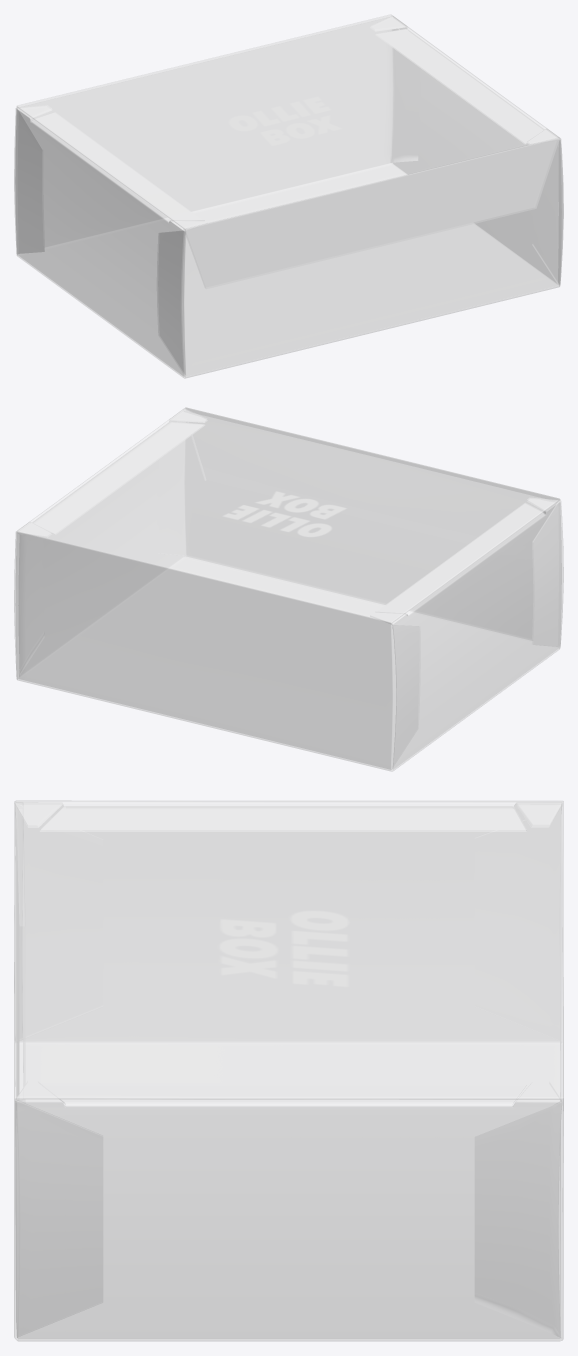
The model's file is Box-Glace.gltf.
The picture shows the model from 3 angles, top to bottom: view 1: azimuth 30°, elevation 25°; view 2: azimuth 150°, elevation 25°; view 3: azimuth 270°, elevation 25°; orthographic projection. The views are drawn at different scales.
Visible parts, largest first — view 1: rectangular_packaging_box_1500; view 2: rectangular_packaging_box_1500; view 3: rectangular_packaging_box_1500.
Part boxes in pixels (x1,y1,x2,y2): rectangular_packaging_box_1500: [14, 14, 563, 378]; rectangular_packaging_box_1500: [14, 407, 563, 771]; rectangular_packaging_box_1500: [14, 800, 563, 1341].
Bounding box in the file's own units: 22.81 × 8.55 × 17.45.
Materials: 1 (1 with a texture image).
